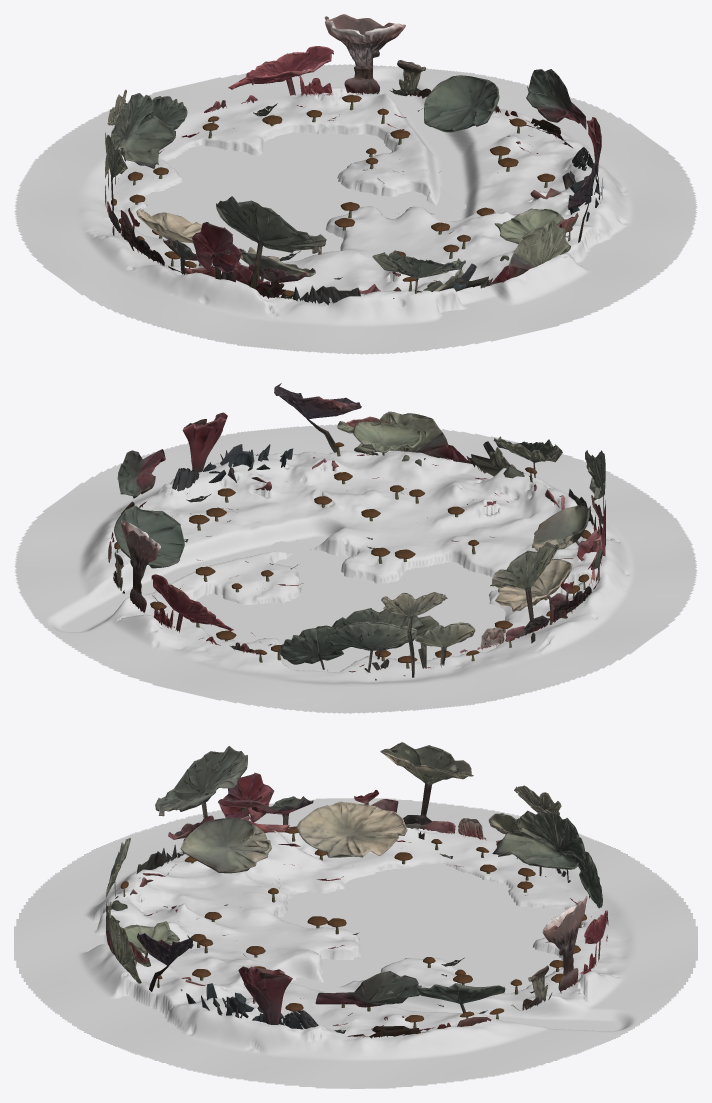
The model's file is forest_refined.glb.
3 renders of one model, top to bottom at view 1: azimuth 30°, elevation 25°; view 2: azimuth 150°, elevation 25°; view 3: azimuth 270°, elevation 25°, orthographic.
Parts seen in each view (by area): view 1: Mesh_0.001, Plants_Roots, Water, V5_Mushroom_Cap, V5_Mushroom_Stem; view 2: Mesh_0.001, Plants_Roots, Water, V5_Mushroom_Cap, V5_Mushroom_Stem; view 3: Mesh_0.001, Plants_Roots, Water, V5_Mushroom_Cap.
Part boxes in pixels (x1,y1,x2,y2): Mesh_0.001: [14, 64, 697, 354]; Plants_Roots: [105, 14, 603, 305]; Water: [135, 132, 466, 262]; V5_Mushroom_Cap: [111, 95, 572, 296]; V5_Mushroom_Stem: [113, 102, 570, 298]; Mesh_0.001: [14, 424, 697, 713]; Plants_Roots: [108, 383, 605, 680]; Water: [196, 539, 505, 672]; V5_Mushroom_Cap: [114, 442, 591, 662]; V5_Mushroom_Stem: [116, 447, 587, 668]; Mesh_0.001: [14, 798, 697, 1088]; Plants_Roots: [106, 742, 608, 1038]; Water: [279, 864, 583, 993]; V5_Mushroom_Cap: [120, 827, 596, 1022].
Bounding box in the file's own units: 70.75 × 14.55 × 70.75.
Materials: 3 (2 with a texture image).
